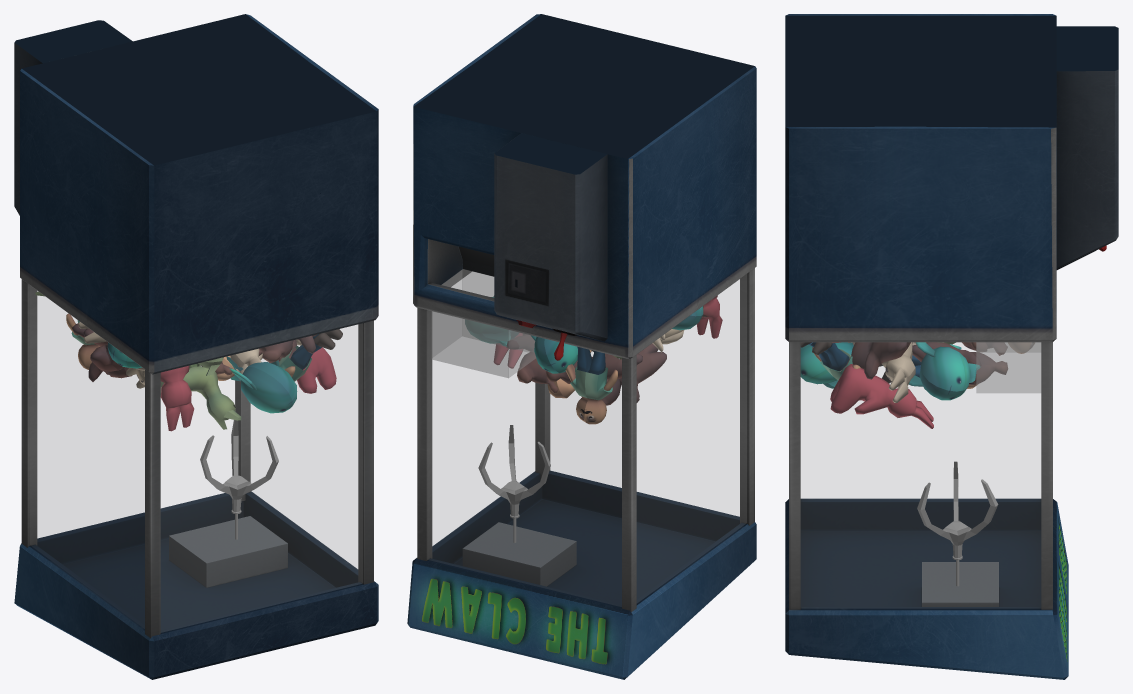
Rendered from Claw_Machine.fbx.
The picture shows the model from 3 angles, left to right: view 1: azimuth 30°, elevation 25°; view 2: azimuth 150°, elevation 25°; view 3: azimuth 270°, elevation 25°; orthographic projection. The views are drawn at different scales.
Visible parts, largest first — view 1: polySurface65, polySurface24, polySurface113, pCylinder57, polySurface94, polySurface99, polySurface80; view 2: polySurface65, polySurface24, polySurface42, polySurface113, polySurface80, pCylinder57, polySurface95, polySurface94; view 3: polySurface65, polySurface24, polySurface113, polySurface42, pCylinder57, polySurface93.
Part boxes in pixels (bbox=[...]): polySurface65: bbox=[14, 14, 378, 679]; polySurface24: bbox=[30, 286, 362, 631]; polySurface113: bbox=[35, 291, 342, 429]; pCylinder57: bbox=[200, 420, 278, 539]; polySurface94: bbox=[160, 365, 194, 431]; polySurface99: bbox=[259, 334, 317, 363]; polySurface80: bbox=[66, 313, 101, 369]; polySurface65: bbox=[407, 14, 756, 679]; polySurface24: bbox=[428, 275, 746, 606]; polySurface42: bbox=[431, 269, 535, 378]; polySurface113: bbox=[465, 296, 703, 405]; polySurface80: bbox=[565, 346, 617, 424]; pCylinder57: bbox=[478, 425, 550, 542]; polySurface95: bbox=[531, 335, 577, 373]; polySurface94: bbox=[696, 295, 722, 338]; polySurface65: bbox=[785, 14, 1118, 679]; polySurface24: bbox=[801, 342, 1040, 607]; polySurface113: bbox=[800, 342, 1007, 428]; polySurface42: bbox=[976, 342, 1041, 392]; pCylinder57: bbox=[917, 461, 998, 586]; polySurface93: bbox=[841, 342, 910, 379].
Bounding box in the file's own units: 0.3539 × 0.7952 × 0.4349.
